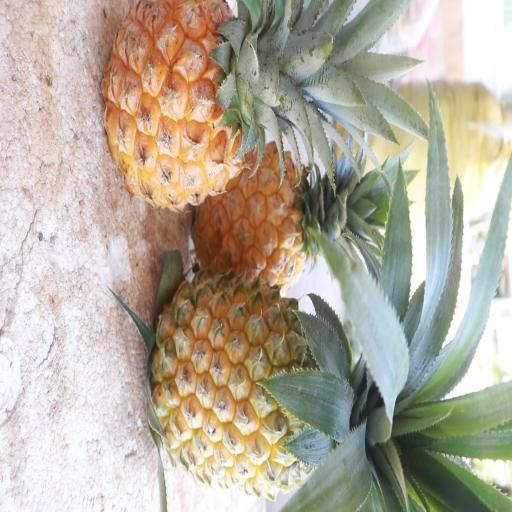Pineapple - v8 v1: (144, 267, 386, 497), (100, 0, 339, 221), (189, 137, 364, 300)
